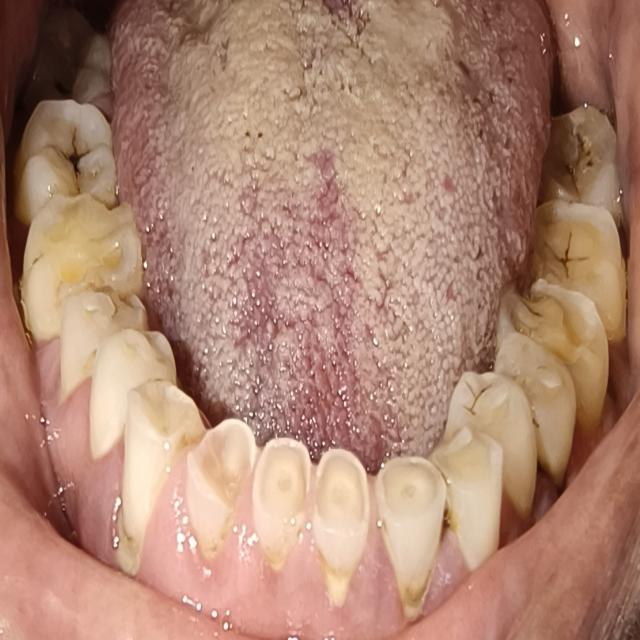leukoplakia-like-detection: (156, 5, 554, 444)
processing_area: (115, 4, 557, 459)
